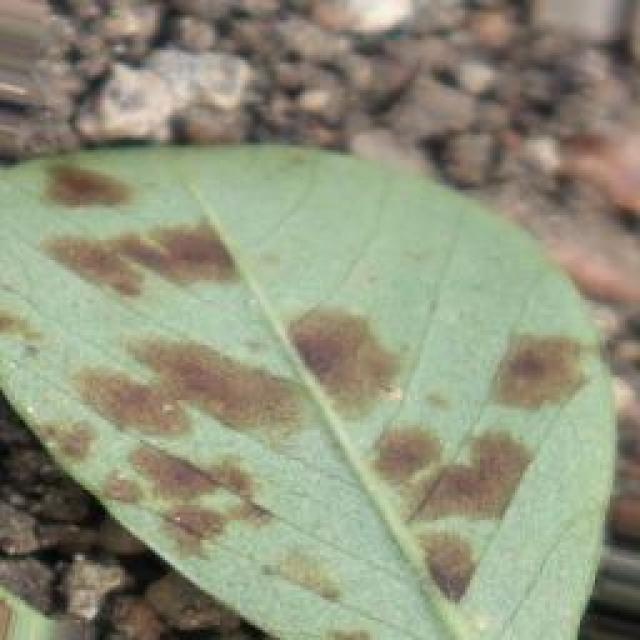Whitefly: (2, 167, 600, 640)
